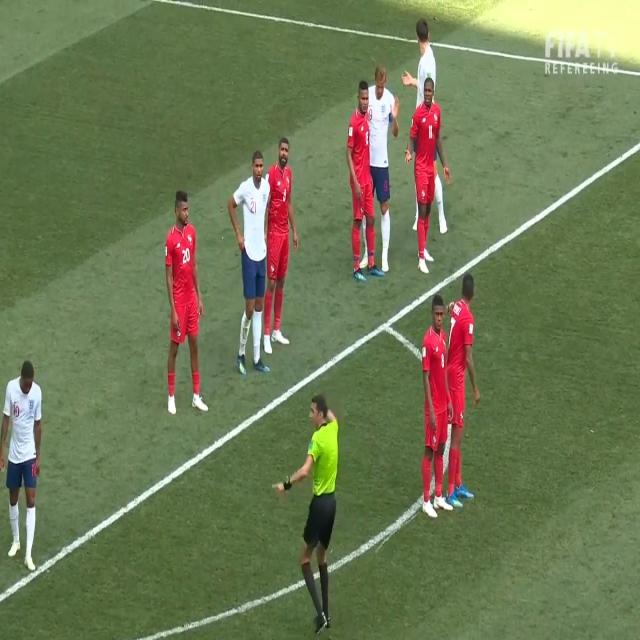player: (163, 184, 210, 419), (1, 357, 44, 574), (229, 146, 268, 381), (406, 76, 452, 274), (450, 270, 482, 509), (419, 293, 451, 516), (270, 133, 301, 355), (373, 67, 401, 271), (348, 77, 373, 280), (402, 19, 439, 79)
